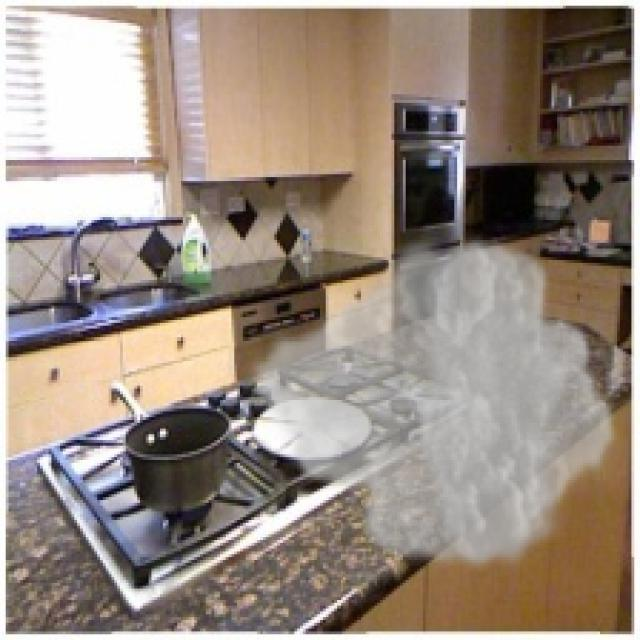Smoke: (245, 228, 620, 578)
